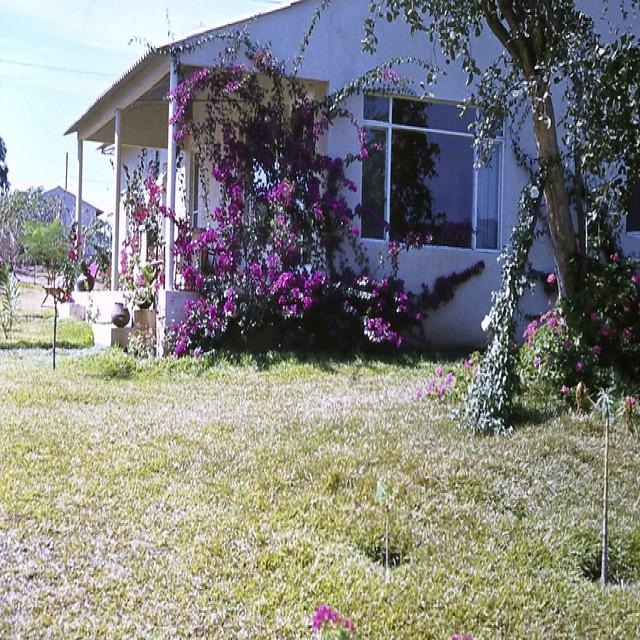building: (60, 0, 632, 367)
